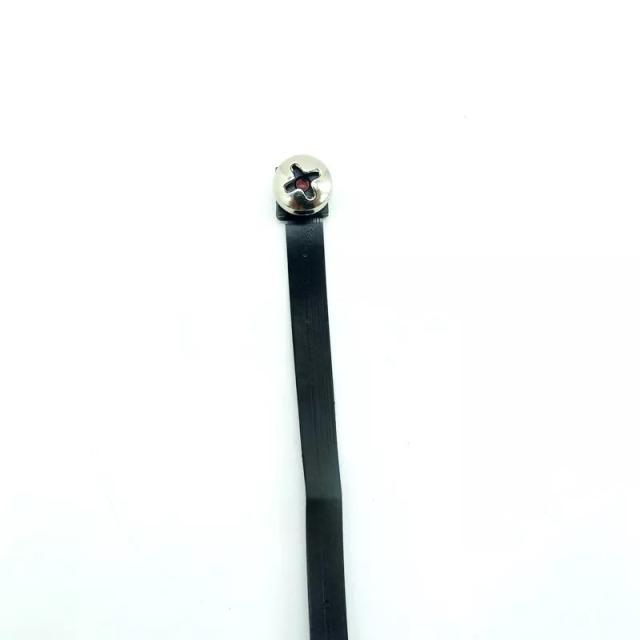hidden camera: (292, 173, 312, 194)
